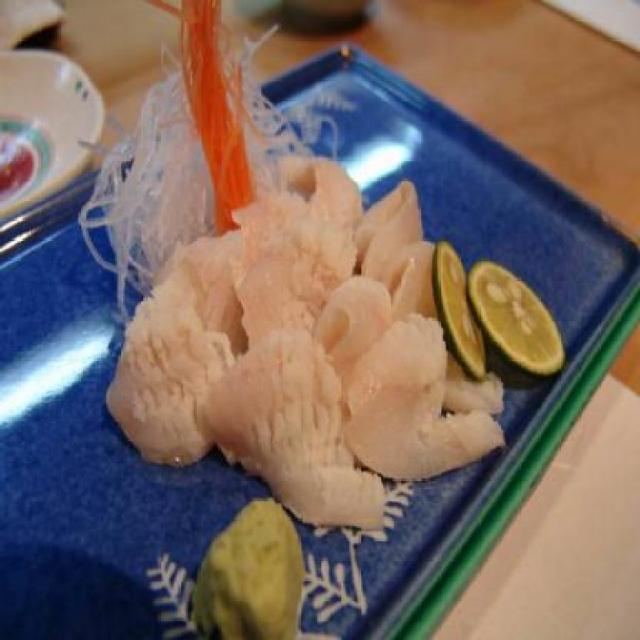Lemon: (466, 256, 568, 376), (430, 237, 488, 376)
